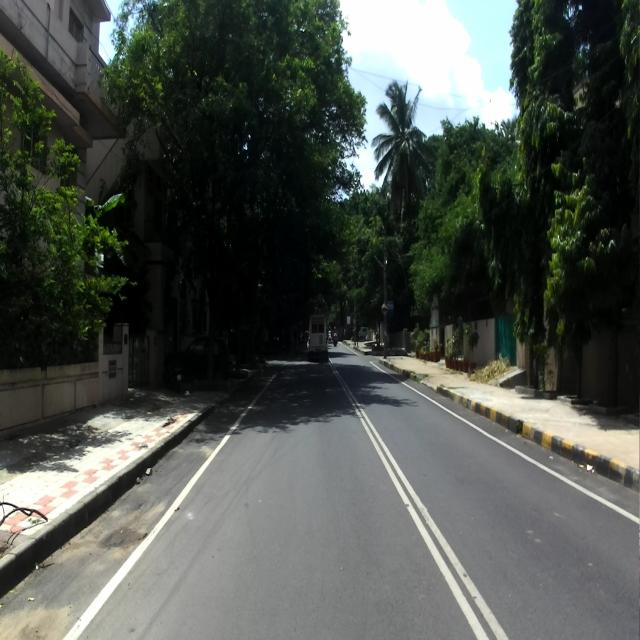mini-bus: (307, 313, 329, 357)
